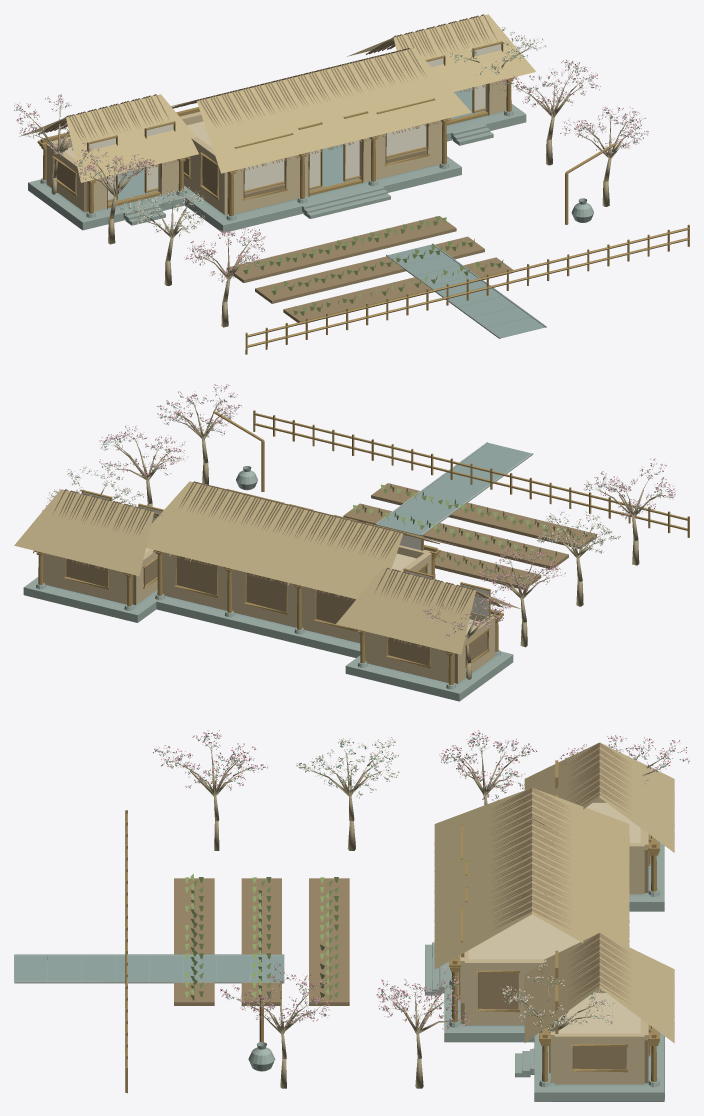
The model's file is daoxiangcun.glb.
3 renders of one model, top to bottom at view 1: azimuth 30°, elevation 25°; view 2: azimuth 150°, elevation 25°; view 3: azimuth 270°, elevation 25°, orthographic. The views are drawn at different scales.
Visible parts, largest first — view 1: r15_daoxiangcun_Sunwen_r18_rustic_thatch.001, r15_daoxiangcun_clay, Mobile_daoxiangcun_plants, r15_daoxiangcun_Sunwen_r18_rustic_stone.001, r15_daoxiangcun_Sunwen_r18_rustic_rusticwood.001, r15_daoxiangcun_Sunwen_r18_rustic_qing_clay.001, Mobile_daoxiangcun_paving, r15_daoxiangcun_Sunwen_r18_rustic_screen.001; view 2: r15_daoxiangcun_Sunwen_r18_rustic_thatch.001, r15_daoxiangcun_clay, Mobile_daoxiangcun_plants, r15_daoxiangcun_Sunwen_r18_rustic_qing_clay.001, r15_daoxiangcun_Sunwen_r18_rustic_stone.001, r15_daoxiangcun_Sunwen_r18_rustic_rusticwood.001, Mobile_daoxiangcun_paving, r15_daoxiangcun_Sunwen_r18_rustic_screen.001; view 3: r15_daoxiangcun_Sunwen_r18_rustic_thatch.001, r15_daoxiangcun_clay, Mobile_daoxiangcun_plants, r15_daoxiangcun_Sunwen_r18_rustic_stone.001, r15_daoxiangcun_Sunwen_r18_rustic_qing_clay.001, Mobile_daoxiangcun_paving, r15_daoxiangcun_Sunwen_r18_rustic_plaster.001, r15_daoxiangcun_Sunwen_r18_rustic_rusticwood.001.
Boxes of the visible parts, bbox=[...] form: r15_daoxiangcun_Sunwen_r18_rustic_thatch.001: bbox=[19, 14, 535, 182]; r15_daoxiangcun_clay: bbox=[38, 14, 516, 324]; Mobile_daoxiangcun_plants: bbox=[14, 27, 648, 327]; r15_daoxiangcun_Sunwen_r18_rustic_stone.001: bbox=[28, 104, 593, 338]; r15_daoxiangcun_Sunwen_r18_rustic_rusticwood.001: bbox=[37, 41, 689, 354]; r15_daoxiangcun_Sunwen_r18_rustic_qing_clay.001: bbox=[46, 80, 506, 214]; Mobile_daoxiangcun_paving: bbox=[42, 88, 544, 337]; r15_daoxiangcun_Sunwen_r18_rustic_screen.001: bbox=[89, 44, 501, 199]; r15_daoxiangcun_Sunwen_r18_rustic_thatch.001: bbox=[14, 481, 521, 654]; r15_daoxiangcun_clay: bbox=[33, 481, 596, 683]; Mobile_daoxiangcun_plants: bbox=[42, 384, 675, 679]; r15_daoxiangcun_Sunwen_r18_rustic_qing_clay.001: bbox=[43, 545, 495, 683]; r15_daoxiangcun_Sunwen_r18_rustic_stone.001: bbox=[23, 442, 533, 701]; r15_daoxiangcun_Sunwen_r18_rustic_rusticwood.001: bbox=[35, 410, 689, 684]; Mobile_daoxiangcun_paving: bbox=[45, 443, 530, 686]; r15_daoxiangcun_Sunwen_r18_rustic_screen.001: bbox=[83, 492, 488, 619]; r15_daoxiangcun_Sunwen_r18_rustic_thatch.001: bbox=[434, 743, 674, 1043]; r15_daoxiangcun_clay: bbox=[174, 742, 674, 1083]; Mobile_daoxiangcun_plants: bbox=[153, 730, 689, 1088]; r15_daoxiangcun_Sunwen_r18_rustic_stone.001: bbox=[14, 836, 664, 1101]; r15_daoxiangcun_Sunwen_r18_rustic_qing_clay.001: bbox=[460, 797, 648, 1084]; Mobile_daoxiangcun_paving: bbox=[14, 856, 651, 1086]; r15_daoxiangcun_Sunwen_r18_rustic_plaster.001: bbox=[468, 802, 640, 1033]; r15_daoxiangcun_Sunwen_r18_rustic_rusticwood.001: bbox=[125, 760, 659, 1093].
Size of the model in its own units: 30.44 by 6.07 by 30.02.
